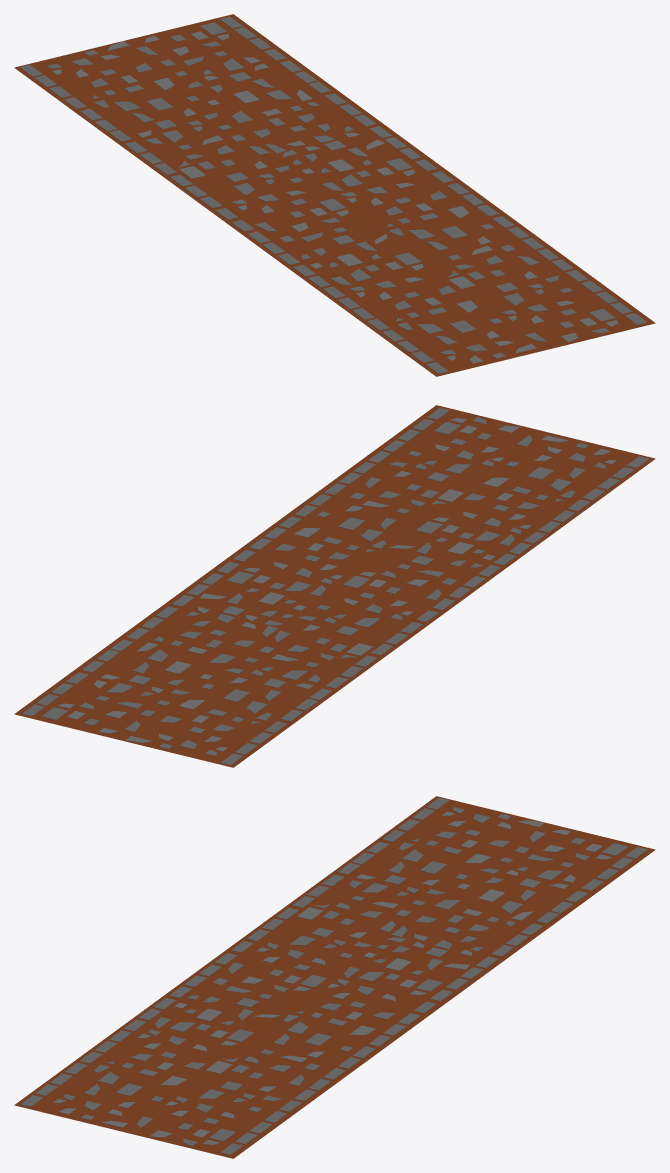
Rendered from Way 3.fbx.
3 views of the same model, one above another, from view 1: azimuth 30°, elevation 25°; view 2: azimuth 150°, elevation 25°; view 3: azimuth 330°, elevation 25° (orthographic).
Visible parts, largest first — view 1: Boden, Steine, SteineRand; view 2: Boden, Steine, SteineRand; view 3: Boden, Steine, SteineRand.
Boxes of the visible parts, box(x1,y1,x2,y2) form: Boden: box(14, 14, 655, 376); Steine: box(46, 22, 618, 363); SteineRand: box(20, 16, 647, 373); Boden: box(14, 405, 655, 767); Steine: box(41, 417, 616, 756); SteineRand: box(22, 408, 648, 765); Boden: box(14, 796, 655, 1158); Steine: box(53, 807, 628, 1145); SteineRand: box(20, 797, 647, 1155).
Size of the model in its own units: 10 by 3 by 0.00699.
